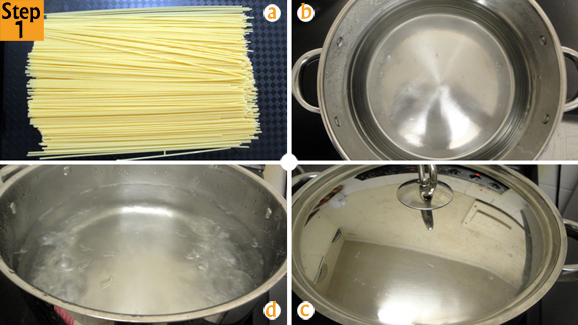plain spaghetti: (23, 7, 266, 156)
